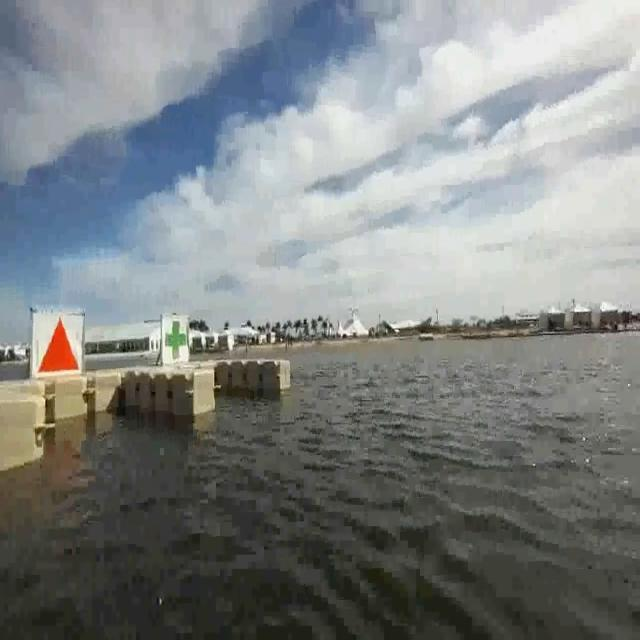blue-cross: (162, 314, 190, 367)
red-dot: (35, 313, 80, 379)
